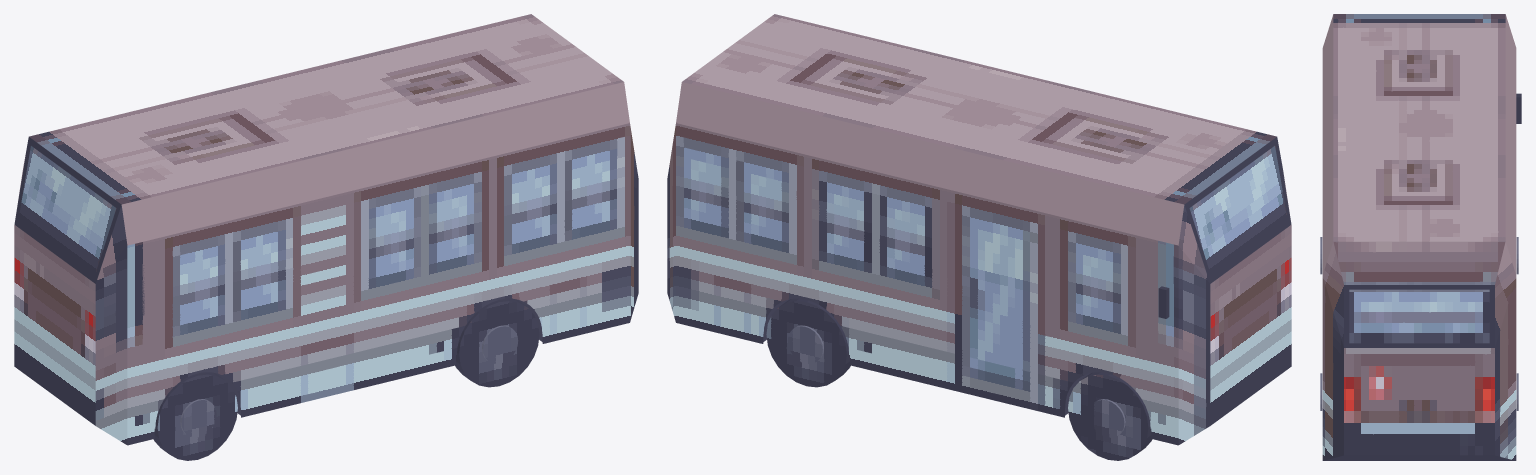
The model's file is bus-6-v1.glb.
3 views of the same model, side by side, from view 1: azimuth 30°, elevation 25°; view 2: azimuth 150°, elevation 25°; view 3: azimuth 270°, elevation 25° (orthographic). The views are drawn at different scales.
Parts seen in each view (by area): view 1: Bus-body-west, Roof, Roof-shoulder-west, Front-fascia, Windshield-glass, Front-corner-west, Tire_FL, Tire_RL, Windshield-frame, Rear-corner-west, Hub_FL, Hub_RL (+1 smaller); view 2: Bus-body-east, Roof, Roof-shoulder-east, Front-fascia, Windshield-glass, Front-corner-east, Tire_FR, Tire_RR, Windshield-frame, Rear-corner-east, Hub_FR, Hub_RR (+1 smaller); view 3: Roof, Rear-fascia, Rear-window-glass, Rear-roof-edge, Rear-corner-west, Rear-corner-east, Roof-shoulder-west, Roof-shoulder-east, Rear-window-frame, Rear-roof-corner-east, Rear-roof-corner-west, Underfloor-rear-bevel.
Part boxes in pixels (box(x1,y1,x2,y2)): Bus-body-west: box(127, 123, 629, 445); Roof: box(29, 14, 623, 204); Roof-shoulder-west: box(121, 82, 629, 245); Front-fascia: box(14, 225, 95, 425); Windshield-glass: box(18, 146, 116, 275); Front-corner-west: box(95, 246, 127, 444); Tire_FL: box(153, 372, 237, 460); Tire_RL: box(455, 298, 539, 387); Windshield-frame: box(14, 137, 121, 283); Rear-corner-west: box(630, 124, 638, 321); Hub_FL: box(180, 399, 216, 437); Hub_RL: box(482, 325, 518, 363); Bus-body-east: box(676, 123, 1178, 445); Roof: box(682, 14, 1276, 204); Roof-shoulder-east: box(676, 82, 1184, 245); Front-fascia: box(1210, 225, 1291, 425); Windshield-glass: box(1189, 146, 1287, 275); Front-corner-east: box(1178, 246, 1210, 444); Tire_FR: box(1068, 372, 1152, 460); Tire_RR: box(766, 298, 850, 387); Windshield-frame: box(1184, 137, 1291, 283); Rear-corner-east: box(667, 124, 675, 321); Hub_FR: box(1089, 399, 1125, 437); Hub_RR: box(787, 325, 823, 363); Roof: box(1333, 14, 1505, 241); Rear-fascia: box(1344, 348, 1494, 455); Rear-window-glass: box(1349, 289, 1489, 343); Rear-roof-edge: box(1333, 241, 1505, 284); Rear-corner-west: box(1322, 276, 1343, 460); Rear-corner-east: box(1495, 276, 1516, 460); Roof-shoulder-west: box(1322, 15, 1333, 274); Roof-shoulder-east: box(1505, 15, 1516, 274); Rear-window-frame: box(1344, 285, 1494, 347); Rear-roof-corner-east: box(1495, 242, 1516, 346); Rear-roof-corner-west: box(1322, 242, 1343, 346); Underfloor-rear-bevel: box(1323, 455, 1515, 460).
Bounding box in the file's own units: 108 × 51 × 37.45.
Materials: 1 (1 with a texture image).
